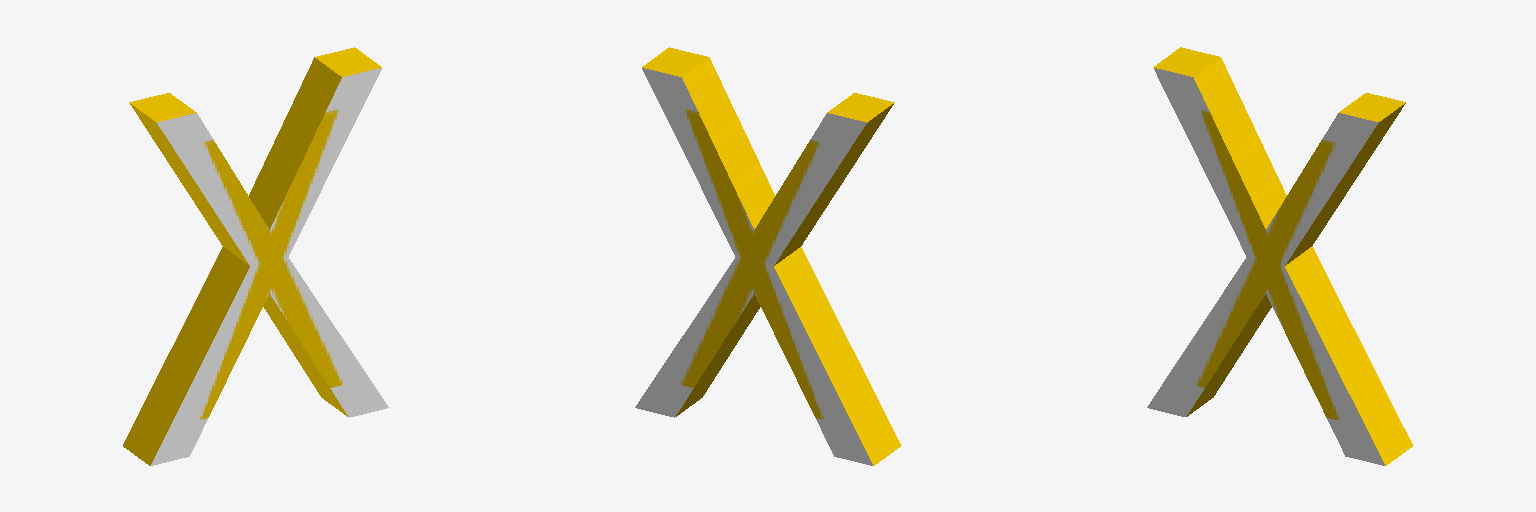
3 views of the same model, side by side, from view 1: azimuth 30°, elevation 25°; view 2: azimuth 150°, elevation 25°; view 3: azimuth 330°, elevation 25° (orthographic).
Bounding box in the file's own units: 59 × 80.63 × 11.8.
5 materials, 1 textured.